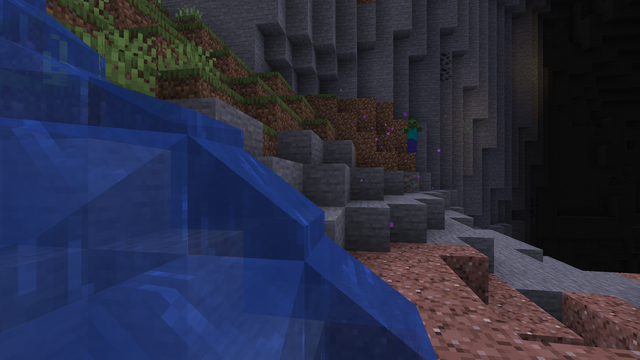zombies: (405, 118, 418, 155)
